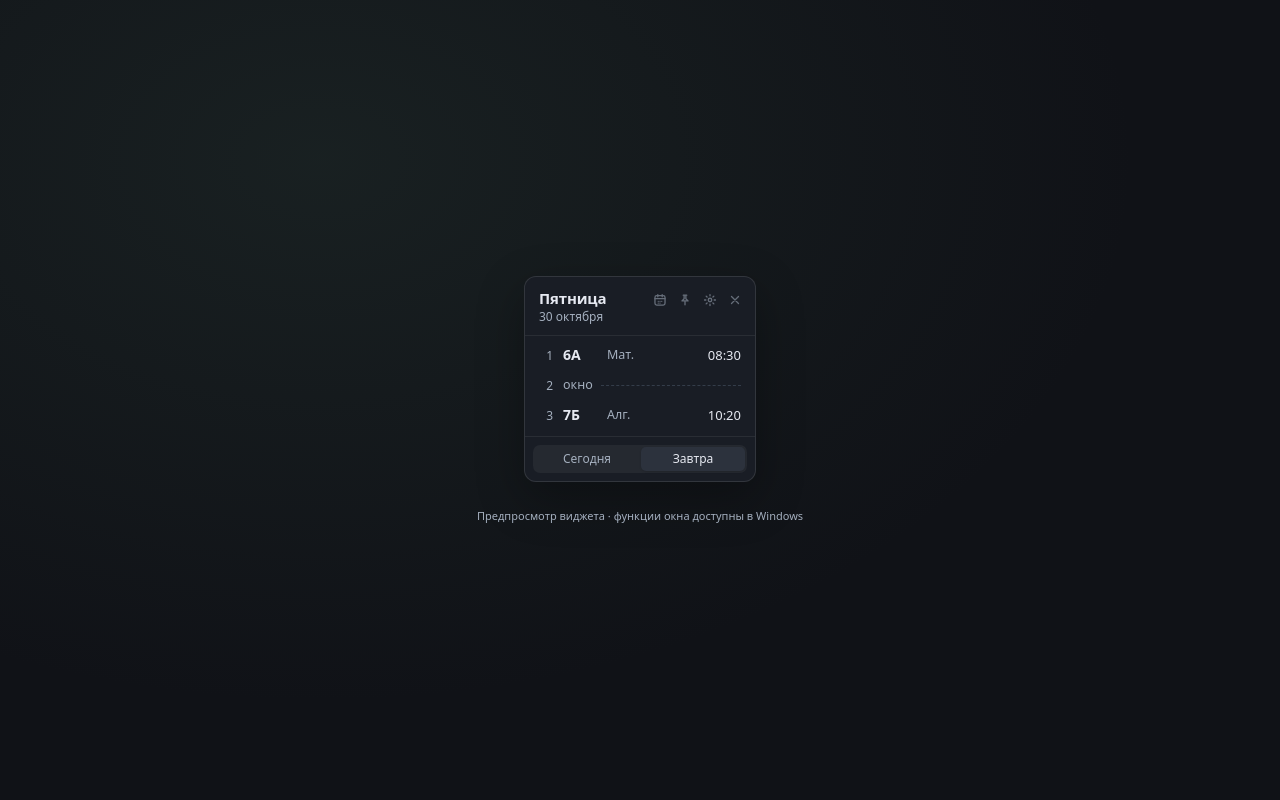
Scenario: делает автоматическую копию при запуске и восстанавливает её из списка
Expected: the text "6А" is shown, [563,345,581,364]
Click the button named "Открыть настройки".
click(710, 300)  # box [698,288,722,312]
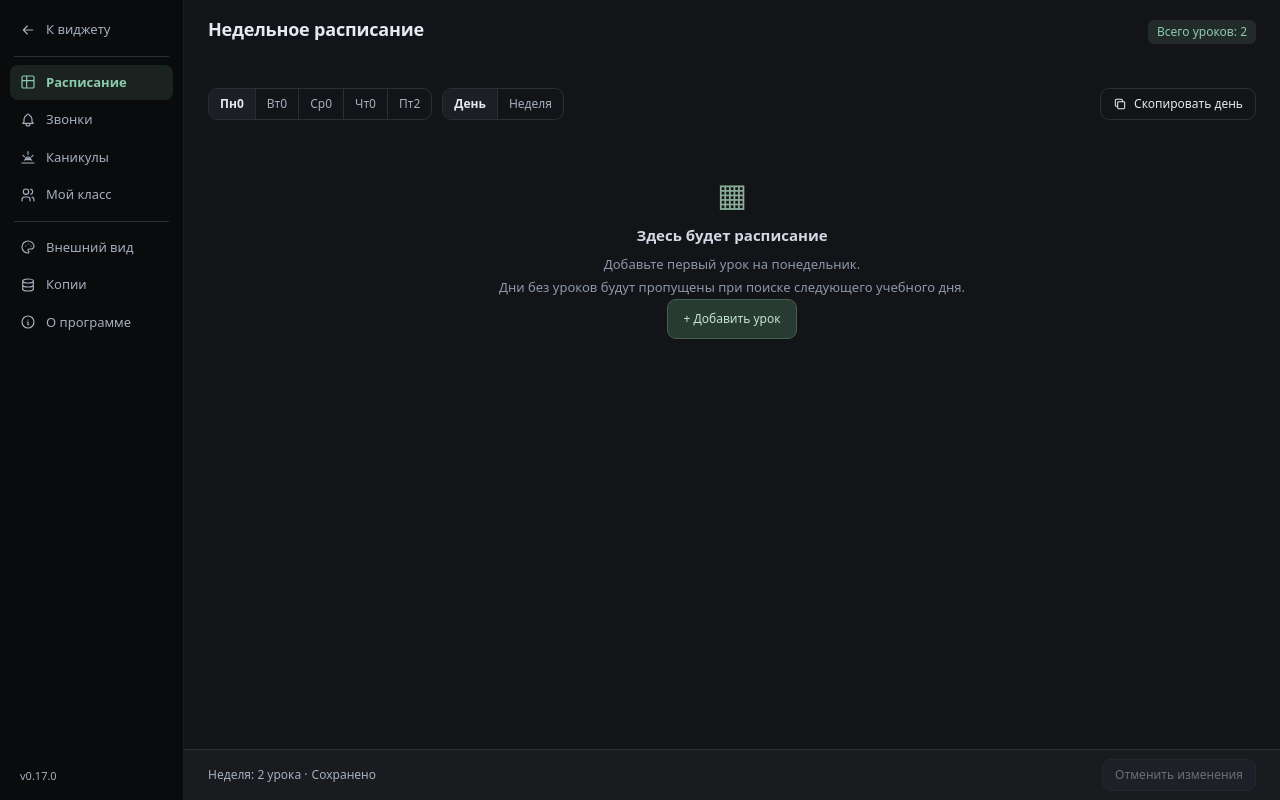
Click the button "Копии".
click(92, 285)  # box [10,267,173,302]
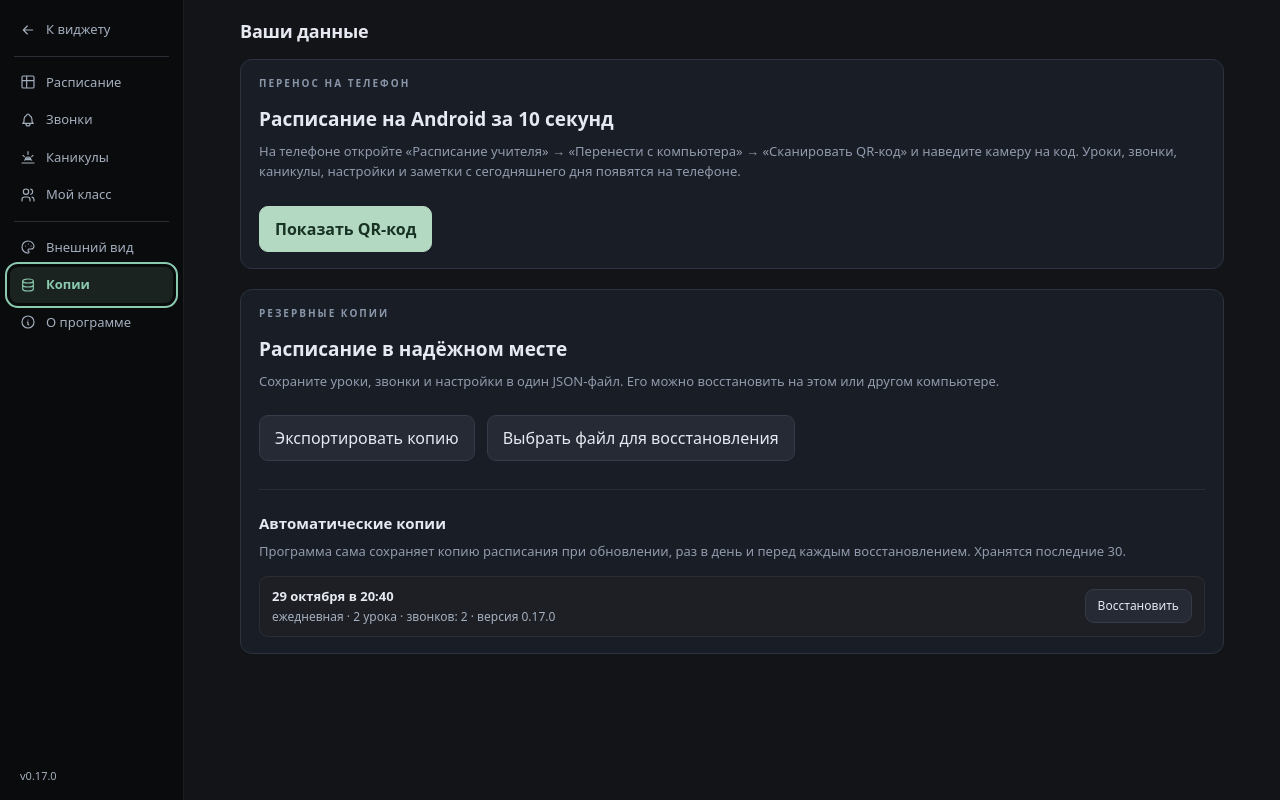
Click the button with aria-label "Восстановить копию от".
click(1138, 606)  # box [1085,589,1192,623]
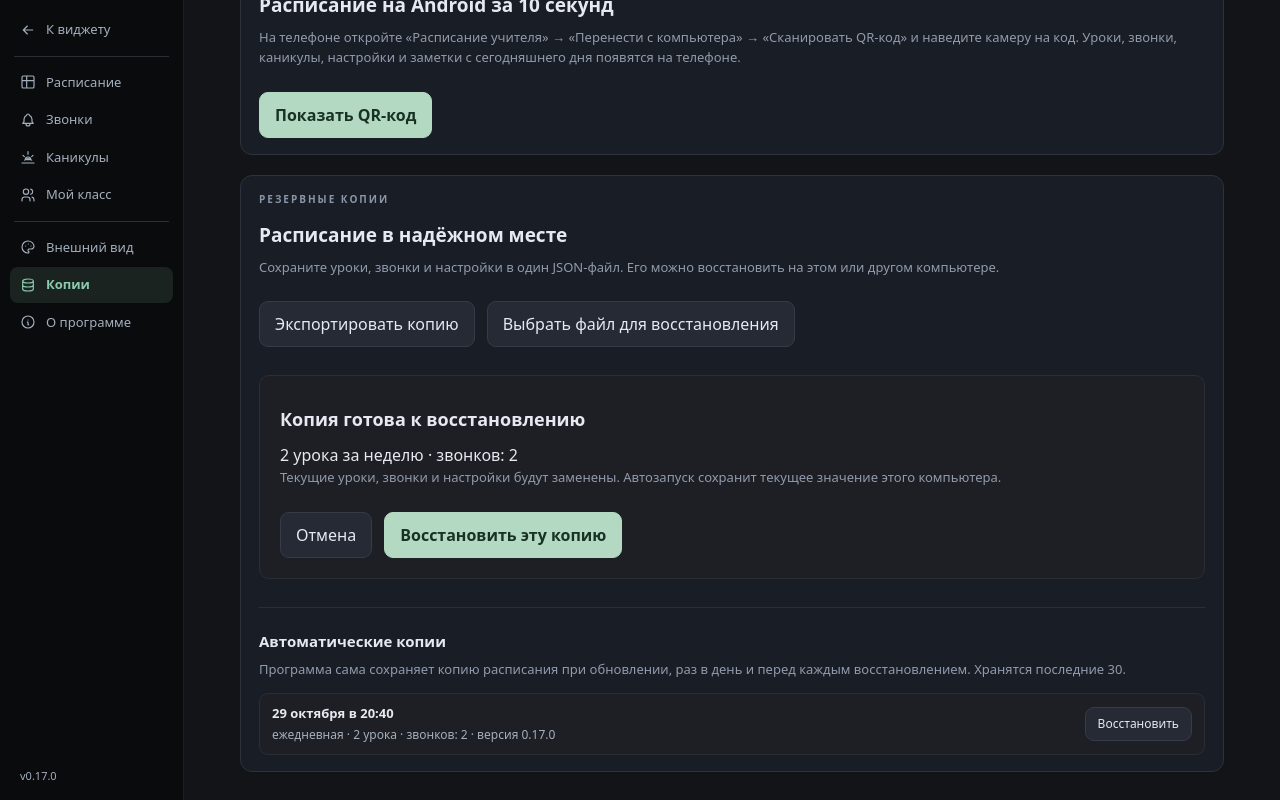
Click the button "Восстановить эту копию".
click(503, 535)  # box [384,512,622,558]
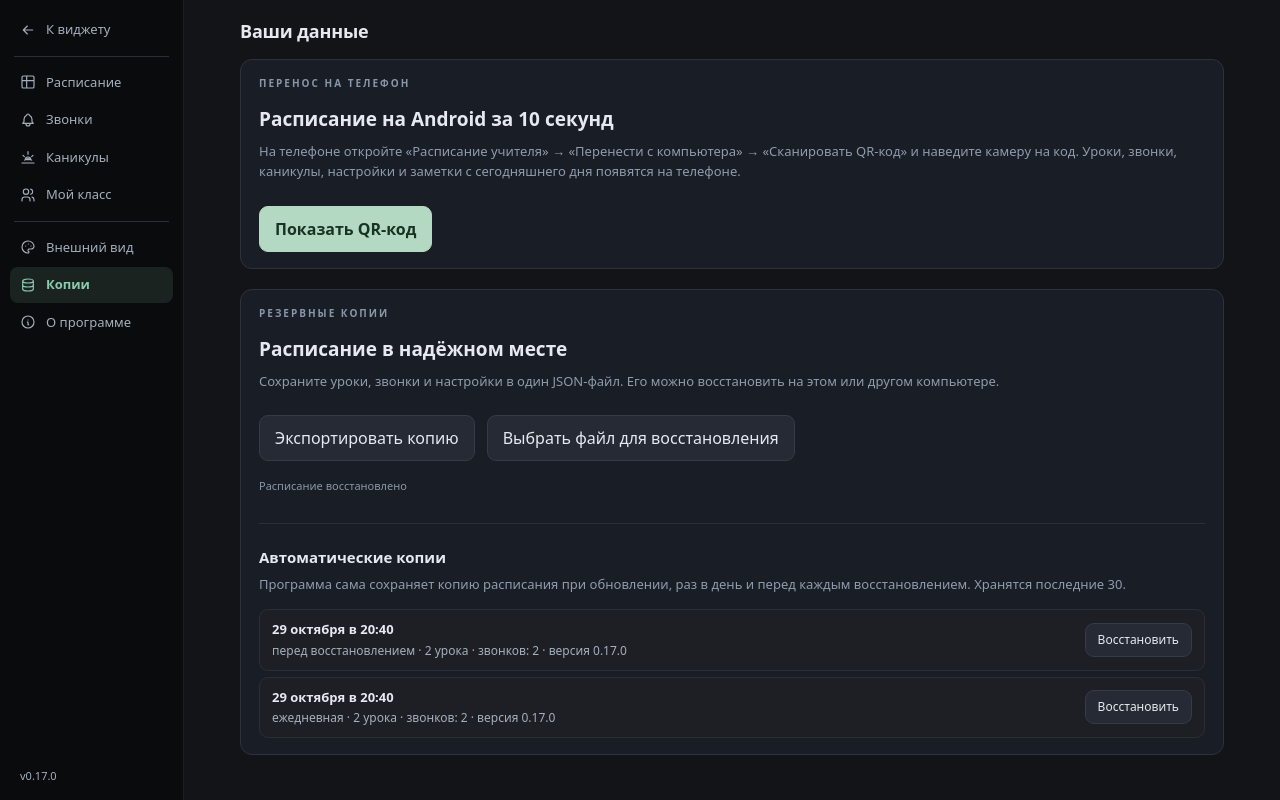
Result: the text "Расписание восстановлено" is shown at [259,478,407,493]
